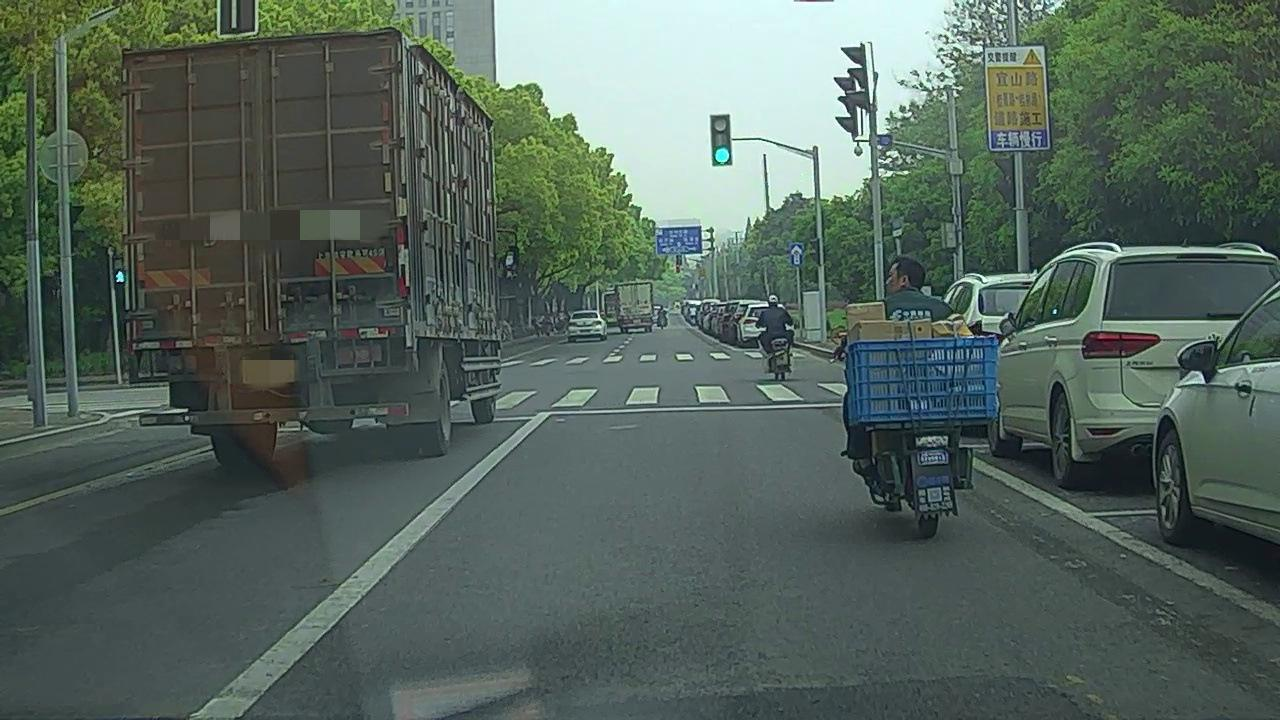traffic_light: (710, 116, 732, 165)
